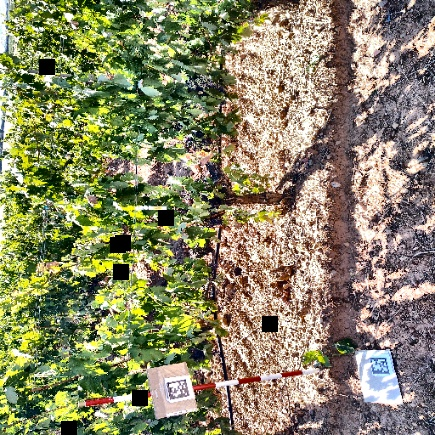QR: (166, 379, 189, 400), (371, 359, 390, 375)
